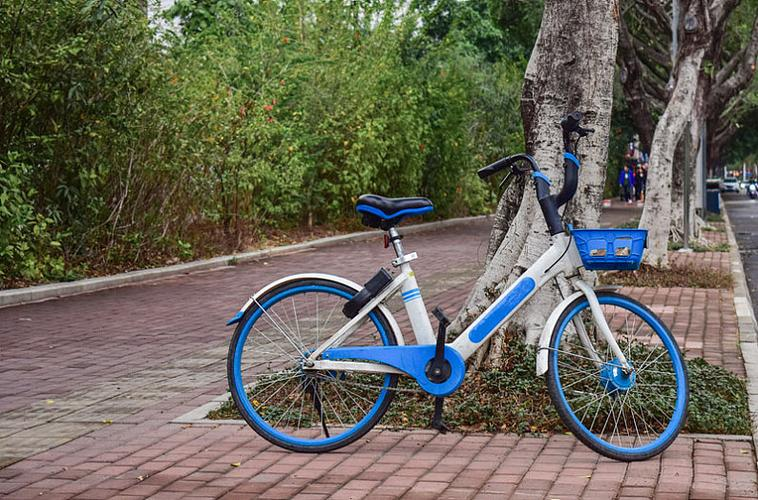单车: (218, 142, 701, 464)
